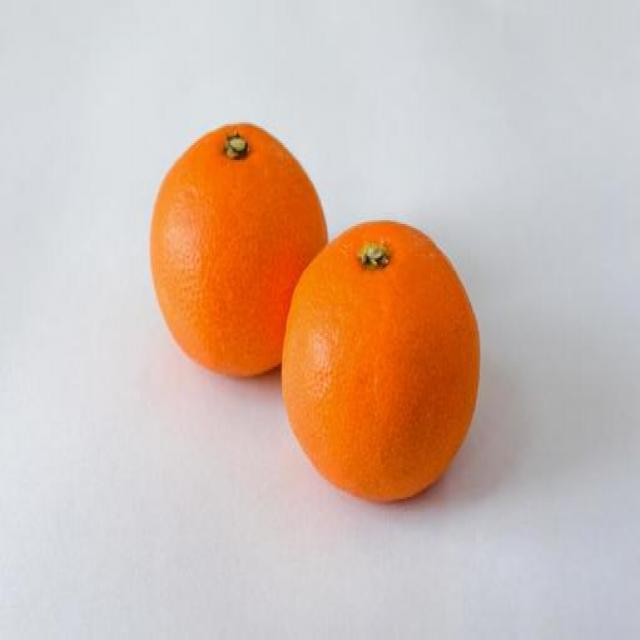Orange: (283, 218, 481, 507), (154, 119, 326, 378)
